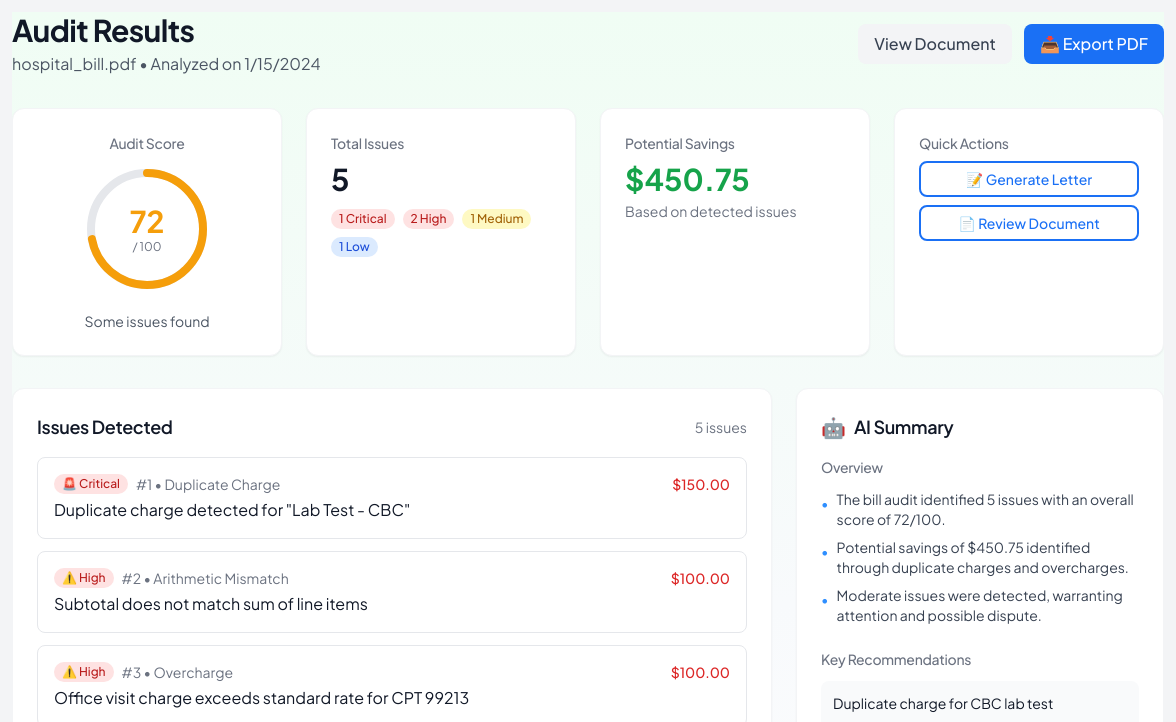
Scenario: AuditPage › Issues Display › shows issue details when expanded
Click the element with test id "issue-item-1" at (392, 498), box x1=37 y1=457 x2=747 y2=539
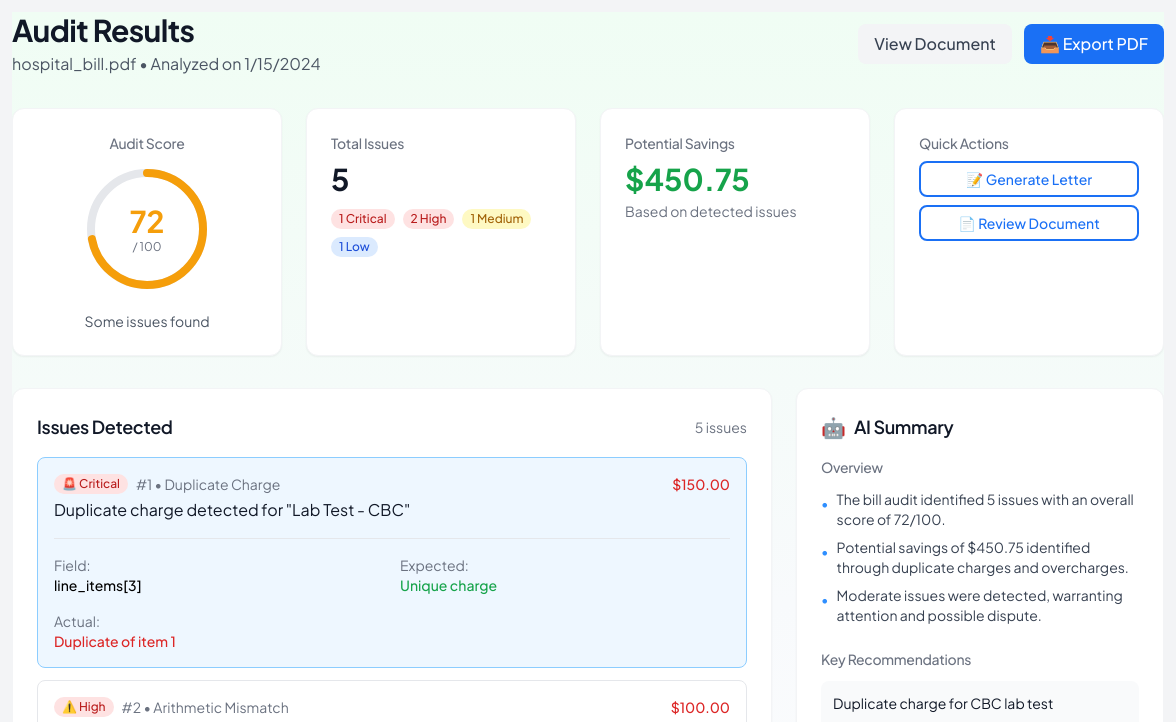
Result: the element with test id "issue-details-1" is shown at x1=54 y1=538 x2=730 y2=651
